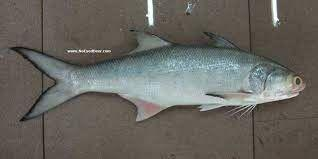Fourfinger Threadfish: (11, 29, 307, 123)
